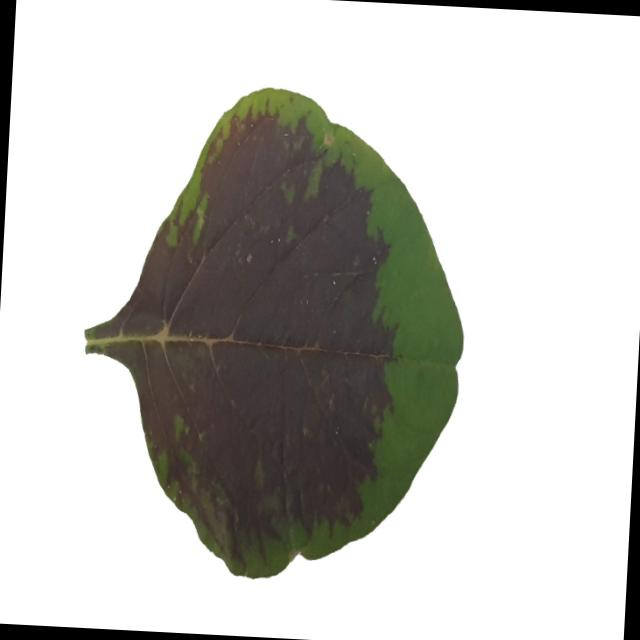Medicinal-Arive Dantu: (73, 75, 477, 590)
